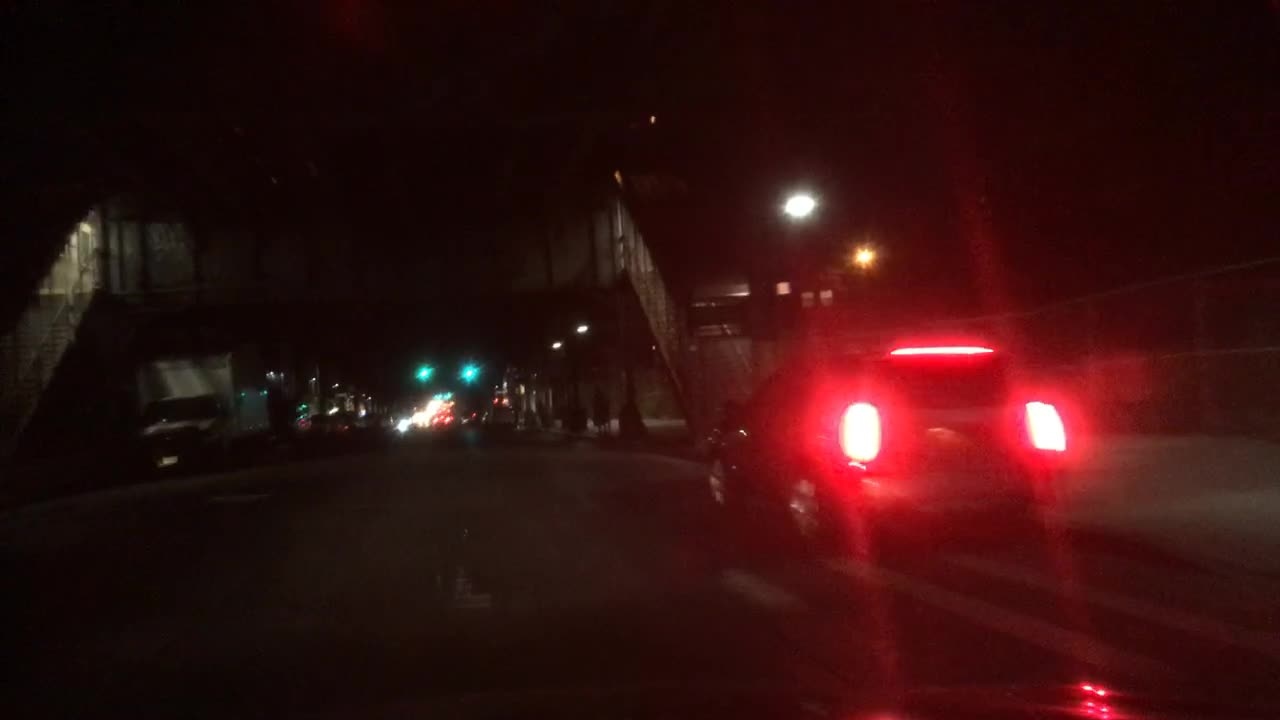car: (688, 341, 1073, 561), (286, 407, 365, 447), (350, 408, 396, 434), (482, 401, 519, 429), (427, 412, 457, 434), (391, 408, 420, 430), (460, 410, 486, 429)
traffic light: (460, 361, 479, 385), (416, 359, 433, 385)
truck: (123, 337, 286, 478)
